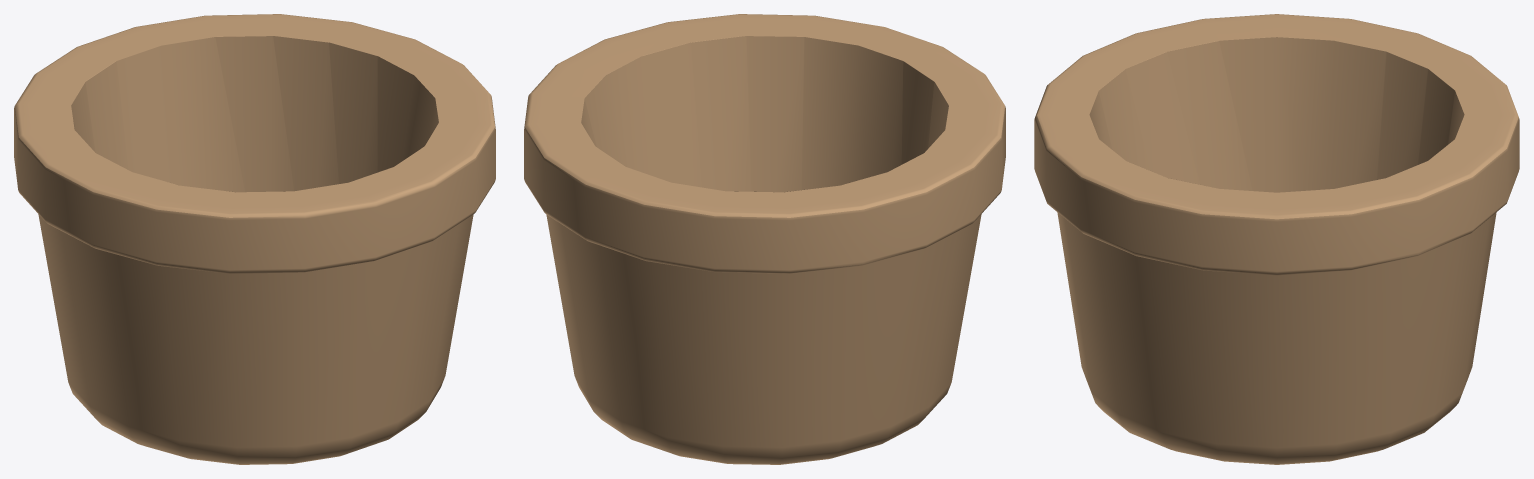
File: flowerpot.fbx
3 renders of one model, left to right at view 1: azimuth 30°, elevation 25°; view 2: azimuth 150°, elevation 25°; view 3: azimuth 270°, elevation 25°, orthographic.
Parts seen in each view (by area): view 1: pCylinder112; view 2: pCylinder112; view 3: pCylinder112.
Boxes of the visible parts, x1=… form: pCylinder112: x1=14, y1=14, x2=495, y2=464; pCylinder112: x1=524, y1=14, x2=1005, y2=464; pCylinder112: x1=1034, y1=14, x2=1519, y2=464.
Bounding box in the file's own units: 0.2798 × 0.18 × 0.2798.
